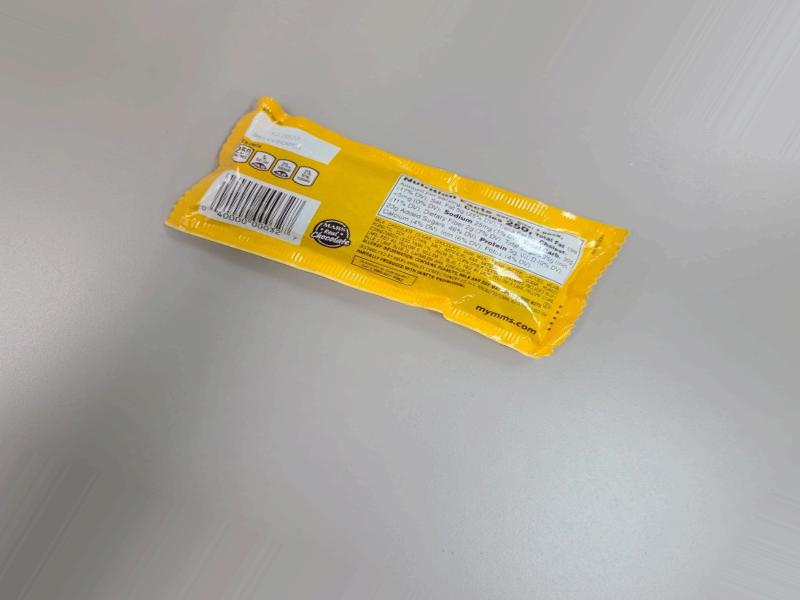m&m: (129, 120, 636, 370)
